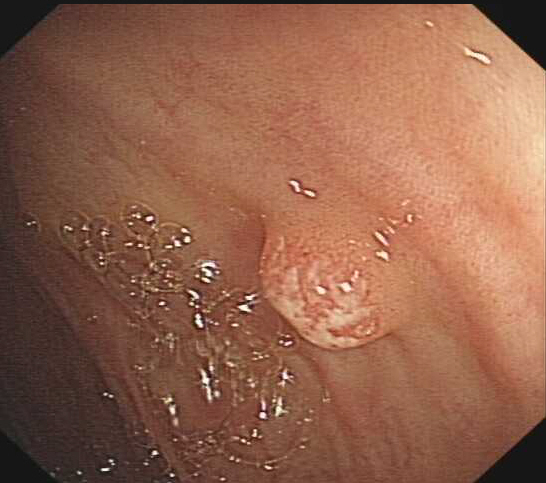others: (252, 226, 404, 353)
